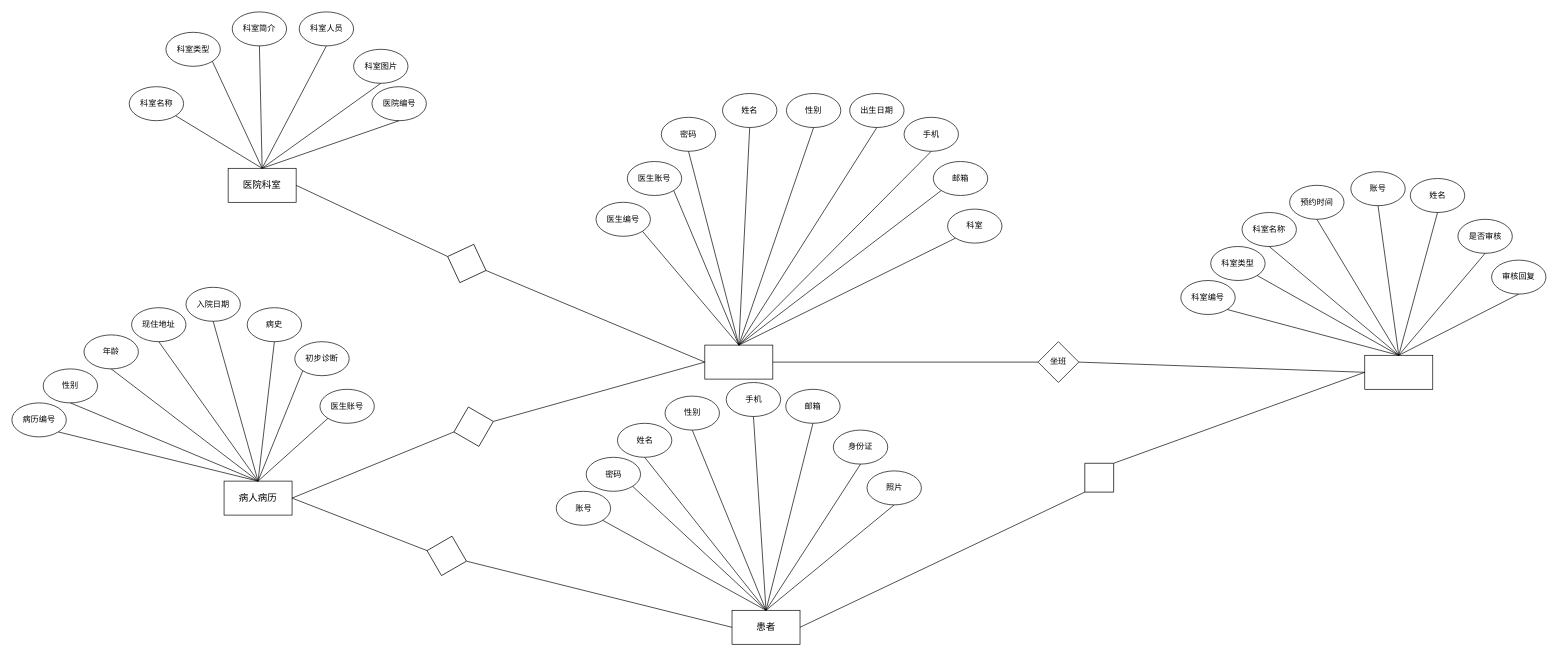
Some shapes in this 1558 by 656 pixel diagram are drawn without their labels. The box of each missing label's shape, as (x1, y1, x2, y2) in pixels:
任职: (440, 237, 493, 290)
医生: (704, 344, 773, 379)
查看: (421, 530, 472, 581)
科室预约: (1364, 355, 1433, 389)
诊断: (448, 401, 499, 452)
预约: (1070, 448, 1128, 507)
